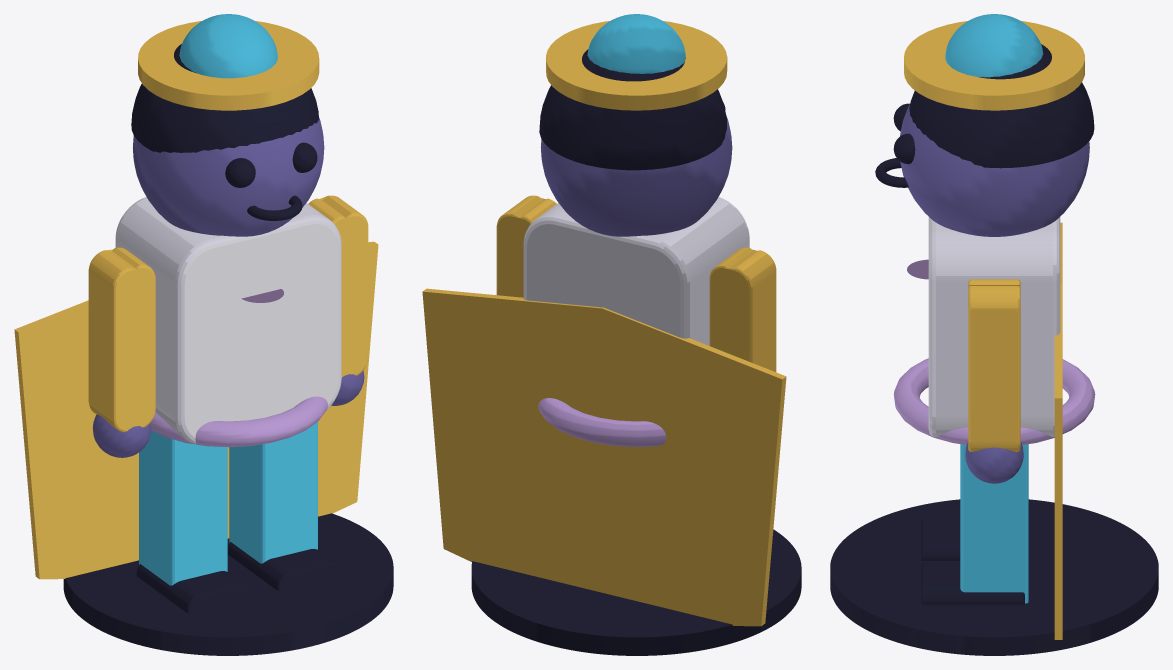
Rendered from 0921_秦汉图鉴_辟雍.glb.
3 renders of one model, left to right at view 1: azimuth 30°, elevation 25°; view 2: azimuth 150°, elevation 25°; view 3: azimuth 270°, elevation 25°, orthographic.
Visible parts, largest first — view 1: card_0921; view 2: card_0921; view 3: card_0921.
Boxes of the visible parts, x1,y1,x2,y2 form: card_0921: (14, 14, 393, 655); card_0921: (422, 14, 801, 655); card_0921: (830, 14, 1158, 655).
Bounding box in the file's own units: 0.6499 × 1 × 0.514.
